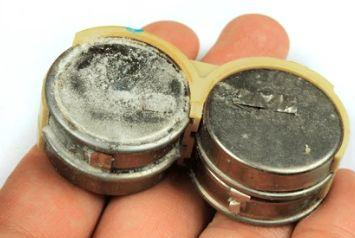battery: (191, 63, 348, 225), (41, 36, 193, 196)
